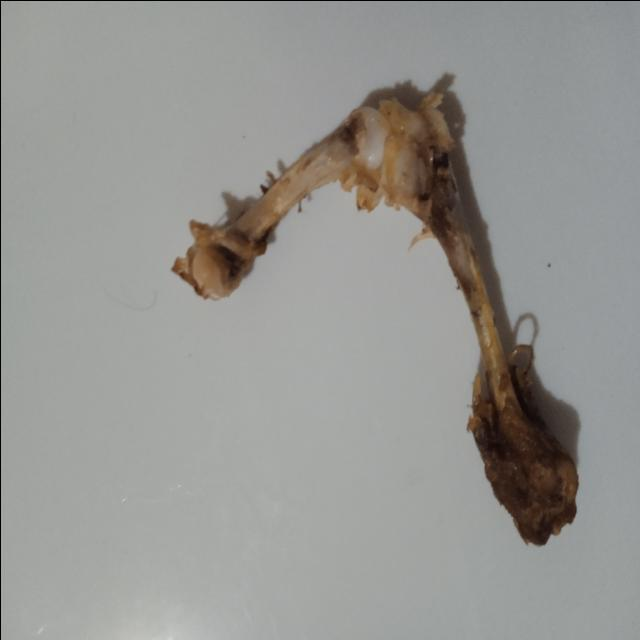bone: (160, 70, 594, 567)
